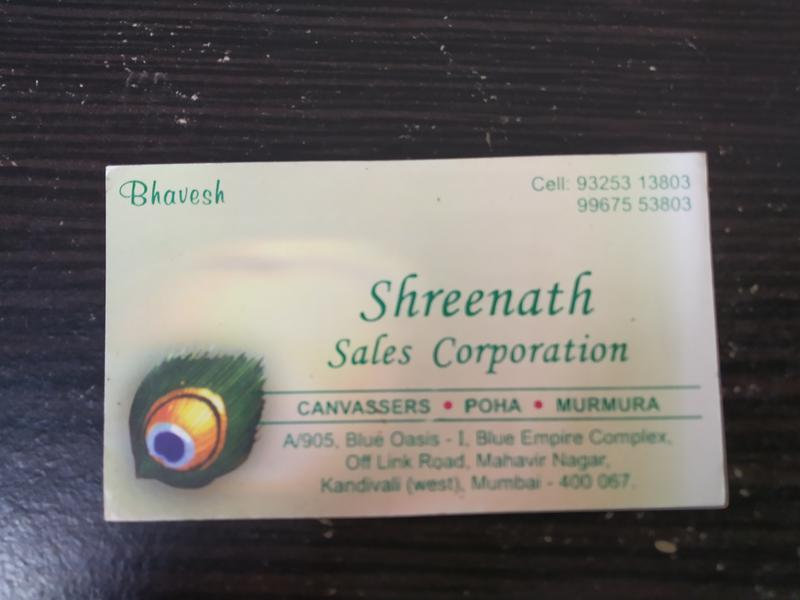card: (102, 158, 730, 516)
